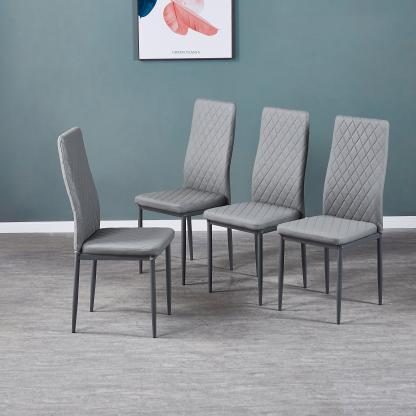chair: (57, 133, 177, 336), (281, 115, 385, 322), (207, 110, 315, 288), (135, 103, 235, 282)
